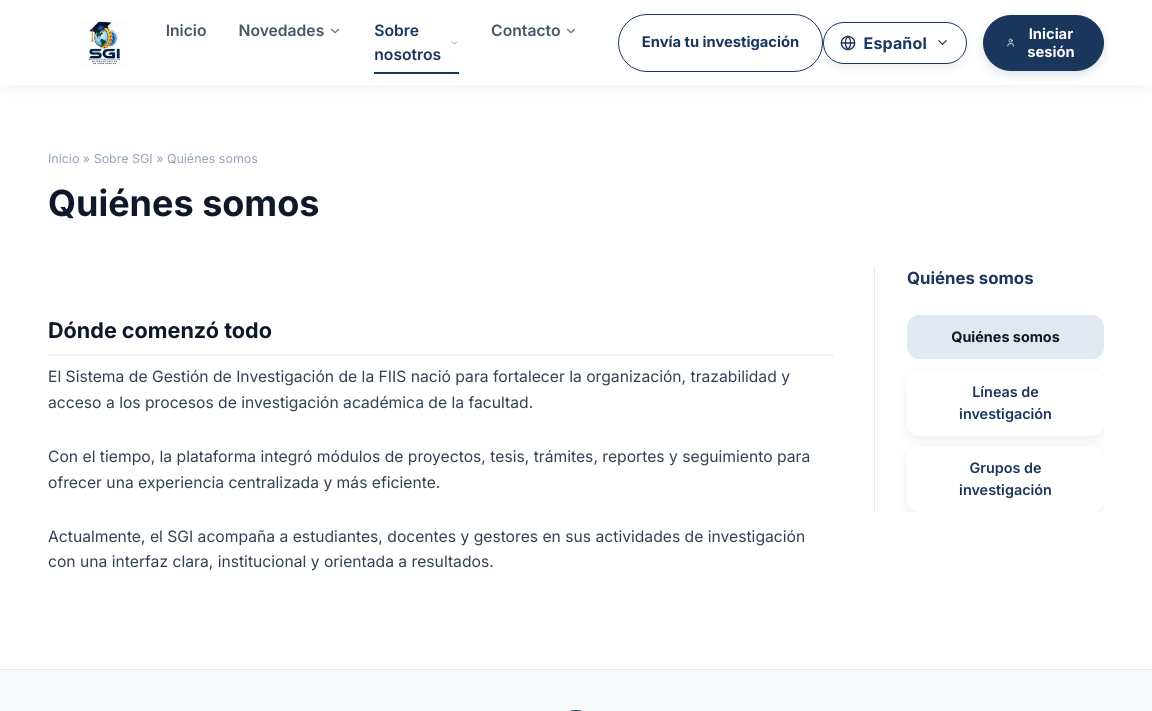
Test: SobreSgiPage › switches sections when sidebar links are clicked
The width and height of the screenshot is (1152, 711).
Click the link "Líneas de investigación" at [1006, 403], box [907,370,1104,436]
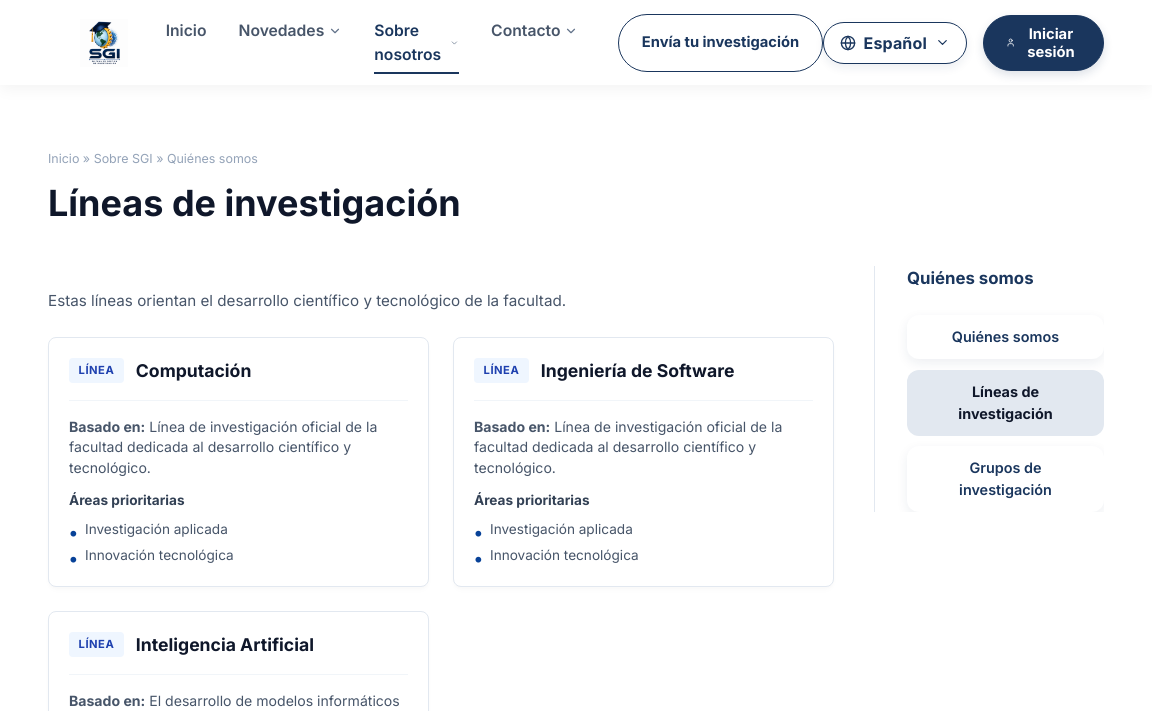
Check: the heading "Computación" is shown, box [136,358,251,384]
Check: the heading "Ingeniería de Software" is shown, box [541,358,734,384]
Click the link "Grupos de investigación" at [1006, 479], box [907,446,1104,512]
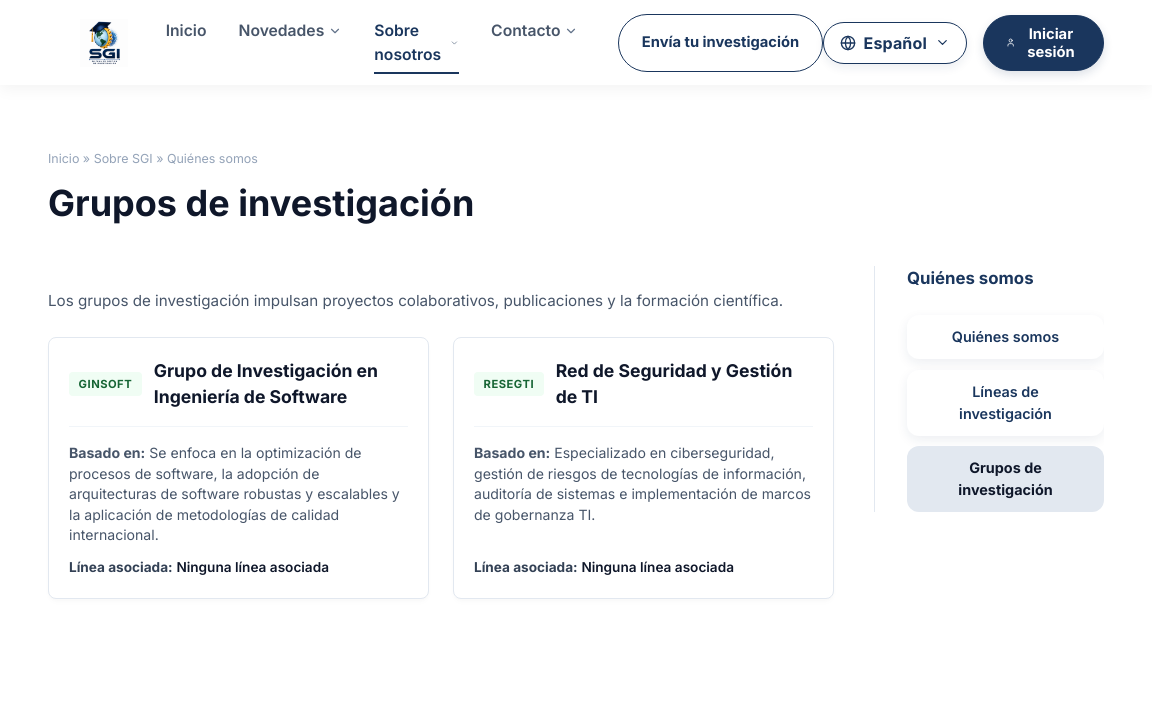
Check: the text "GINSOFT" is shown, box [69,372,142,396]
Check: the text "RESEGTI" is shown, box [474,372,544,396]
